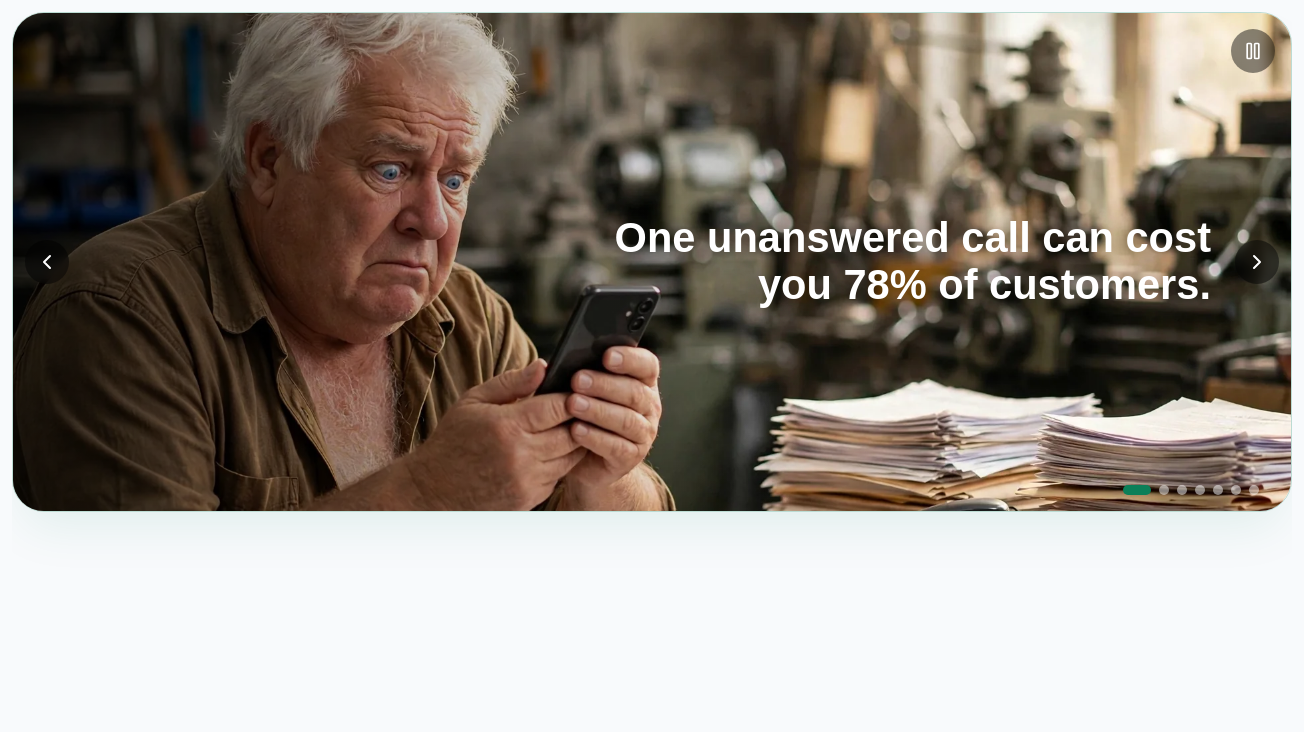
Scenario: HeroSceneSlider › pause toggle stops the rotation and reports aria-pressed
This screenshot has width=1304, height=732.
Click the button named "Pause slideshow": coordinates (1253, 51) [1231,29,1275,73]
Wait 30000 ms
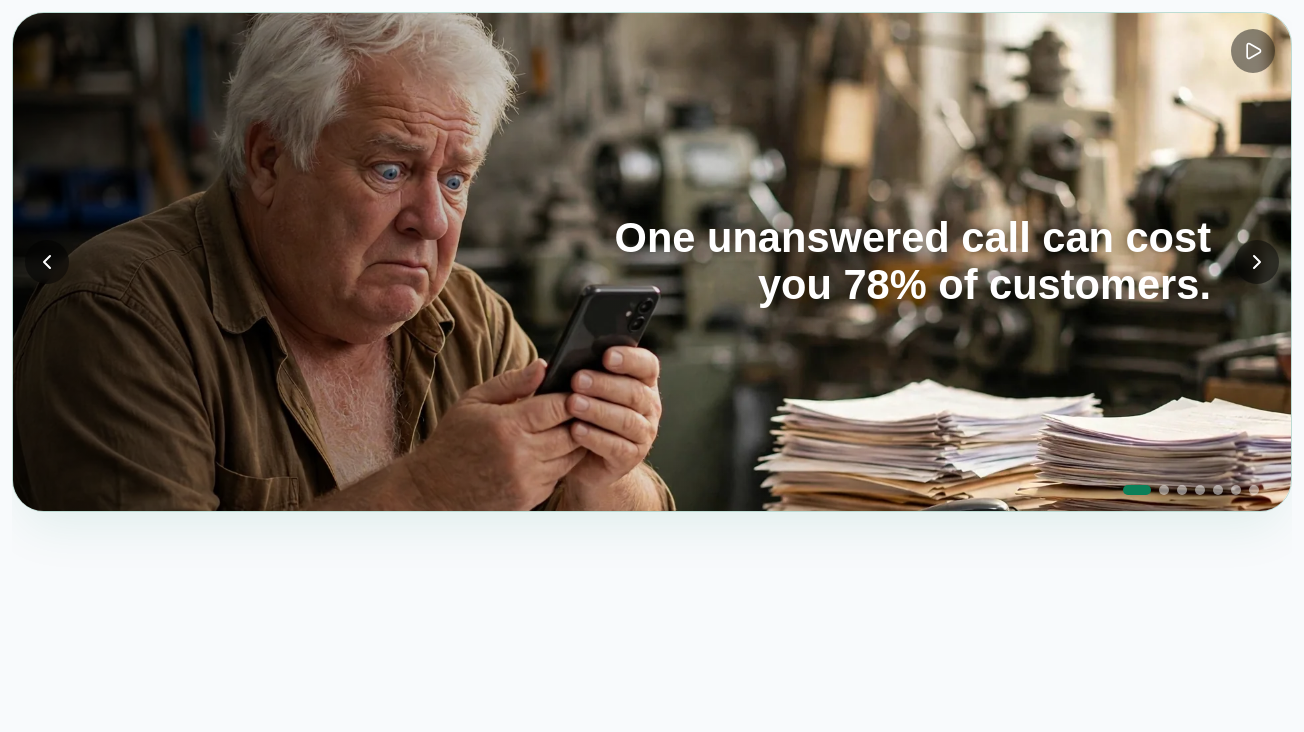
Now the button named "Pause slideshow" is pressed, box [1231,29,1275,73]
